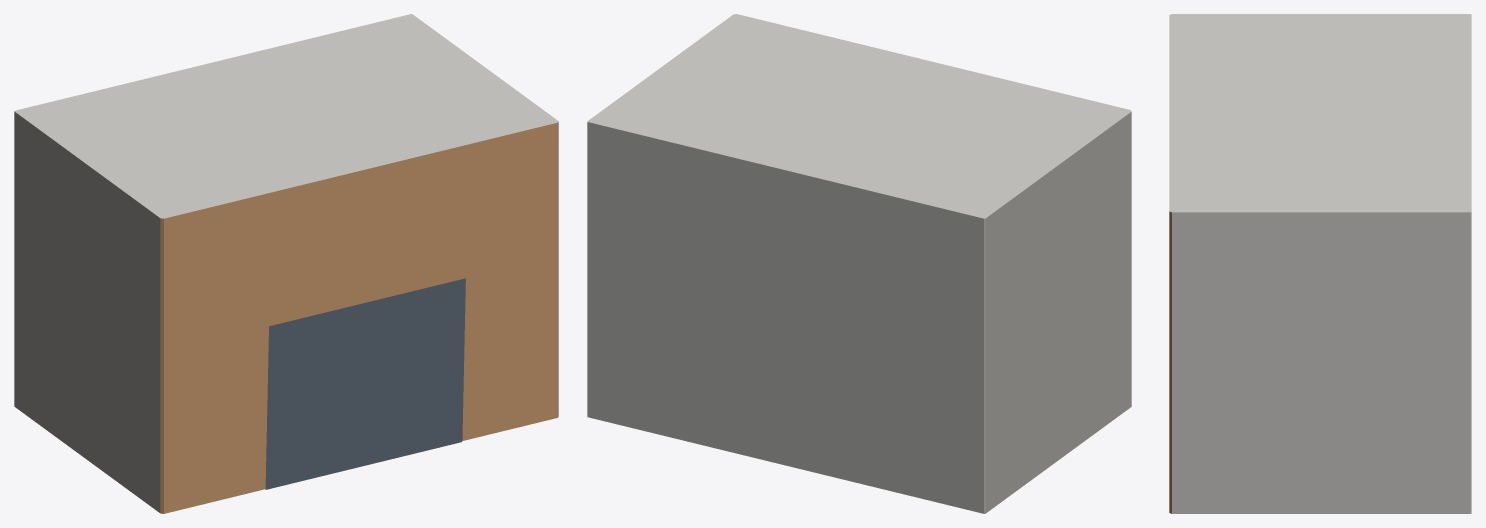
The model's file is loin-etape-1.glb.
3 views of the same model, side by side, from view 1: azimuth 30°, elevation 25°; view 2: azimuth 150°, elevation 25°; view 3: azimuth 270°, elevation 25° (orthographic). The views are drawn at different scales.
Parts seen in each view (by area): view 1: loin; view 2: loin; view 3: loin.
Part boxes in pixels (x1,y1,x2,y2): loin: (14,14,558,513); loin: (587,14,1131,513); loin: (1169,14,1471,513).
Bounding box in the file's own units: 0.8698 × 0.6163 × 0.5763.
